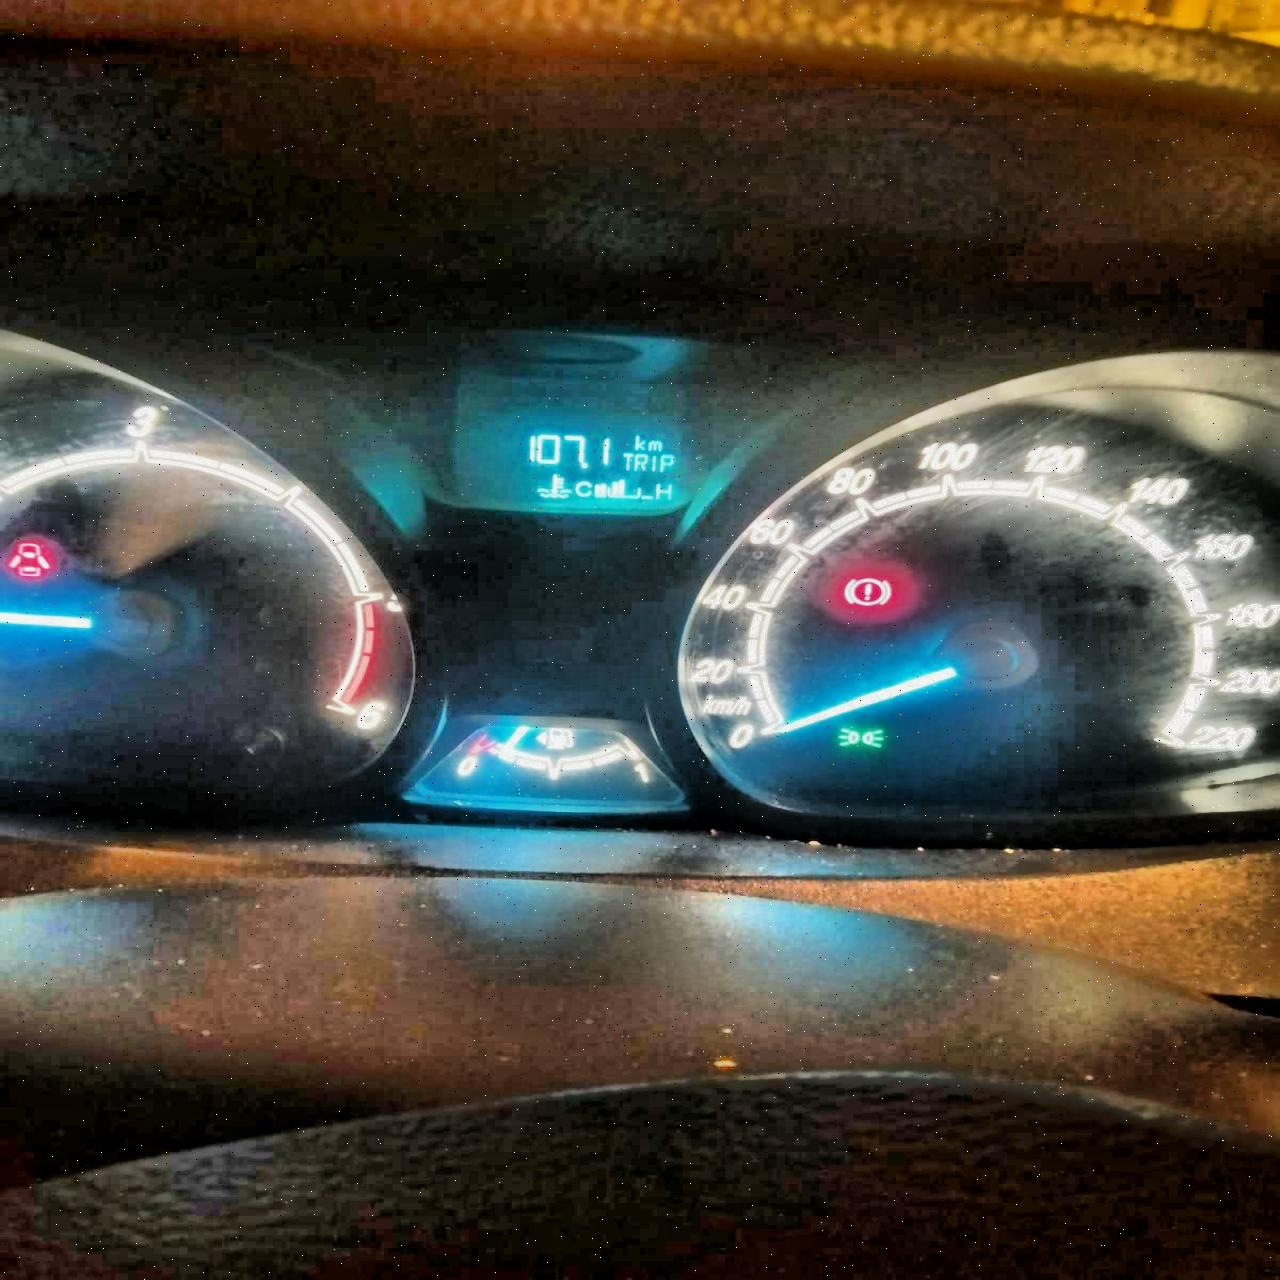-: (580, 462, 590, 469)
0: (536, 433, 559, 465)
1: (601, 435, 611, 467), (526, 434, 533, 464)
7: (564, 433, 586, 462)
X: (659, 454, 675, 475), (574, 479, 592, 498), (654, 481, 672, 499), (633, 454, 647, 470), (621, 452, 631, 470), (634, 434, 645, 449), (648, 440, 661, 451), (651, 454, 656, 471)
odometer: (486, 414, 694, 516)
